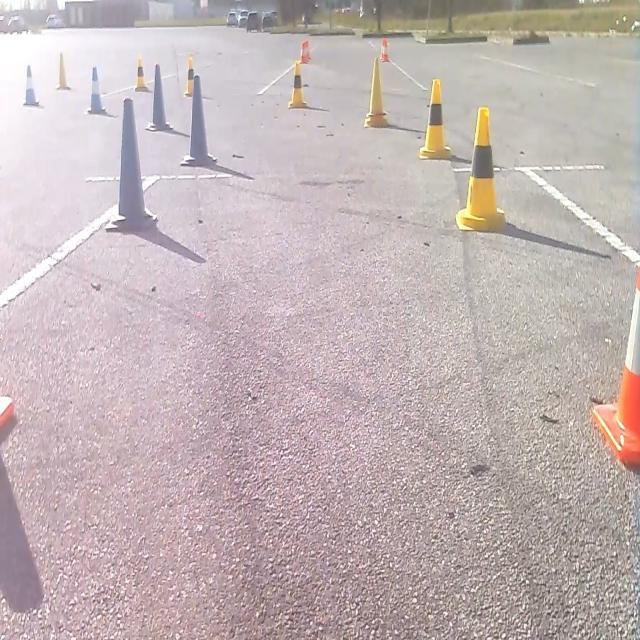blue_cone: (110, 95, 158, 230), (180, 72, 218, 167), (145, 62, 172, 132), (86, 64, 106, 114), (23, 63, 39, 106)
orange_cone: (591, 266, 639, 470), (379, 37, 390, 62), (300, 38, 310, 63)
yellow_cone: (455, 104, 506, 232), (418, 76, 452, 160), (363, 56, 389, 128), (288, 58, 307, 108), (134, 54, 149, 92), (56, 51, 70, 90), (183, 54, 195, 96)
